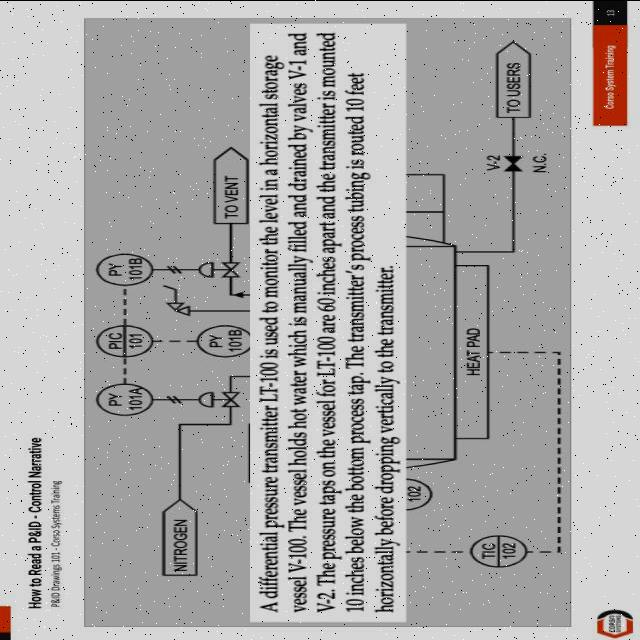Angle Valve: (152, 296, 200, 322)
Closed Gate Valve: (500, 152, 524, 180)
Pneumatic-Diaphragm Gate Valve: (192, 255, 244, 283), (194, 387, 244, 413)
